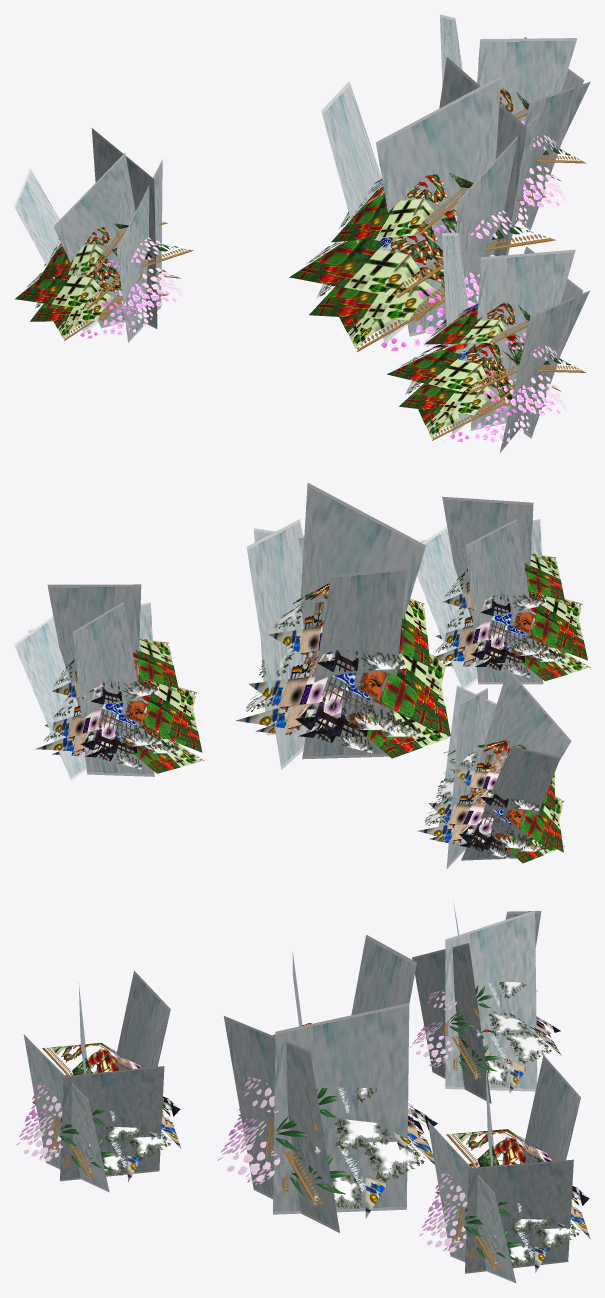
Rendered from gzc_wj_34.fbx.
3 views of the same model, one above another, from view 1: azimuth 30°, elevation 25°; view 2: azimuth 150°, elevation 25°; view 3: azimuth 270°, elevation 25° (orthographic). The views are drawn at different scales.
Parts seen in each view (by area): view 1: gzc_wj_34; view 2: gzc_wj_34; view 3: gzc_wj_34.
Boxes of the visible parts, x1,y1,x2,y2 form: gzc_wj_34: [14, 14, 590, 452]; gzc_wj_34: [14, 483, 590, 868]; gzc_wj_34: [16, 902, 590, 1283].
Size of the model in its own units: 800 by 341 by 716.
